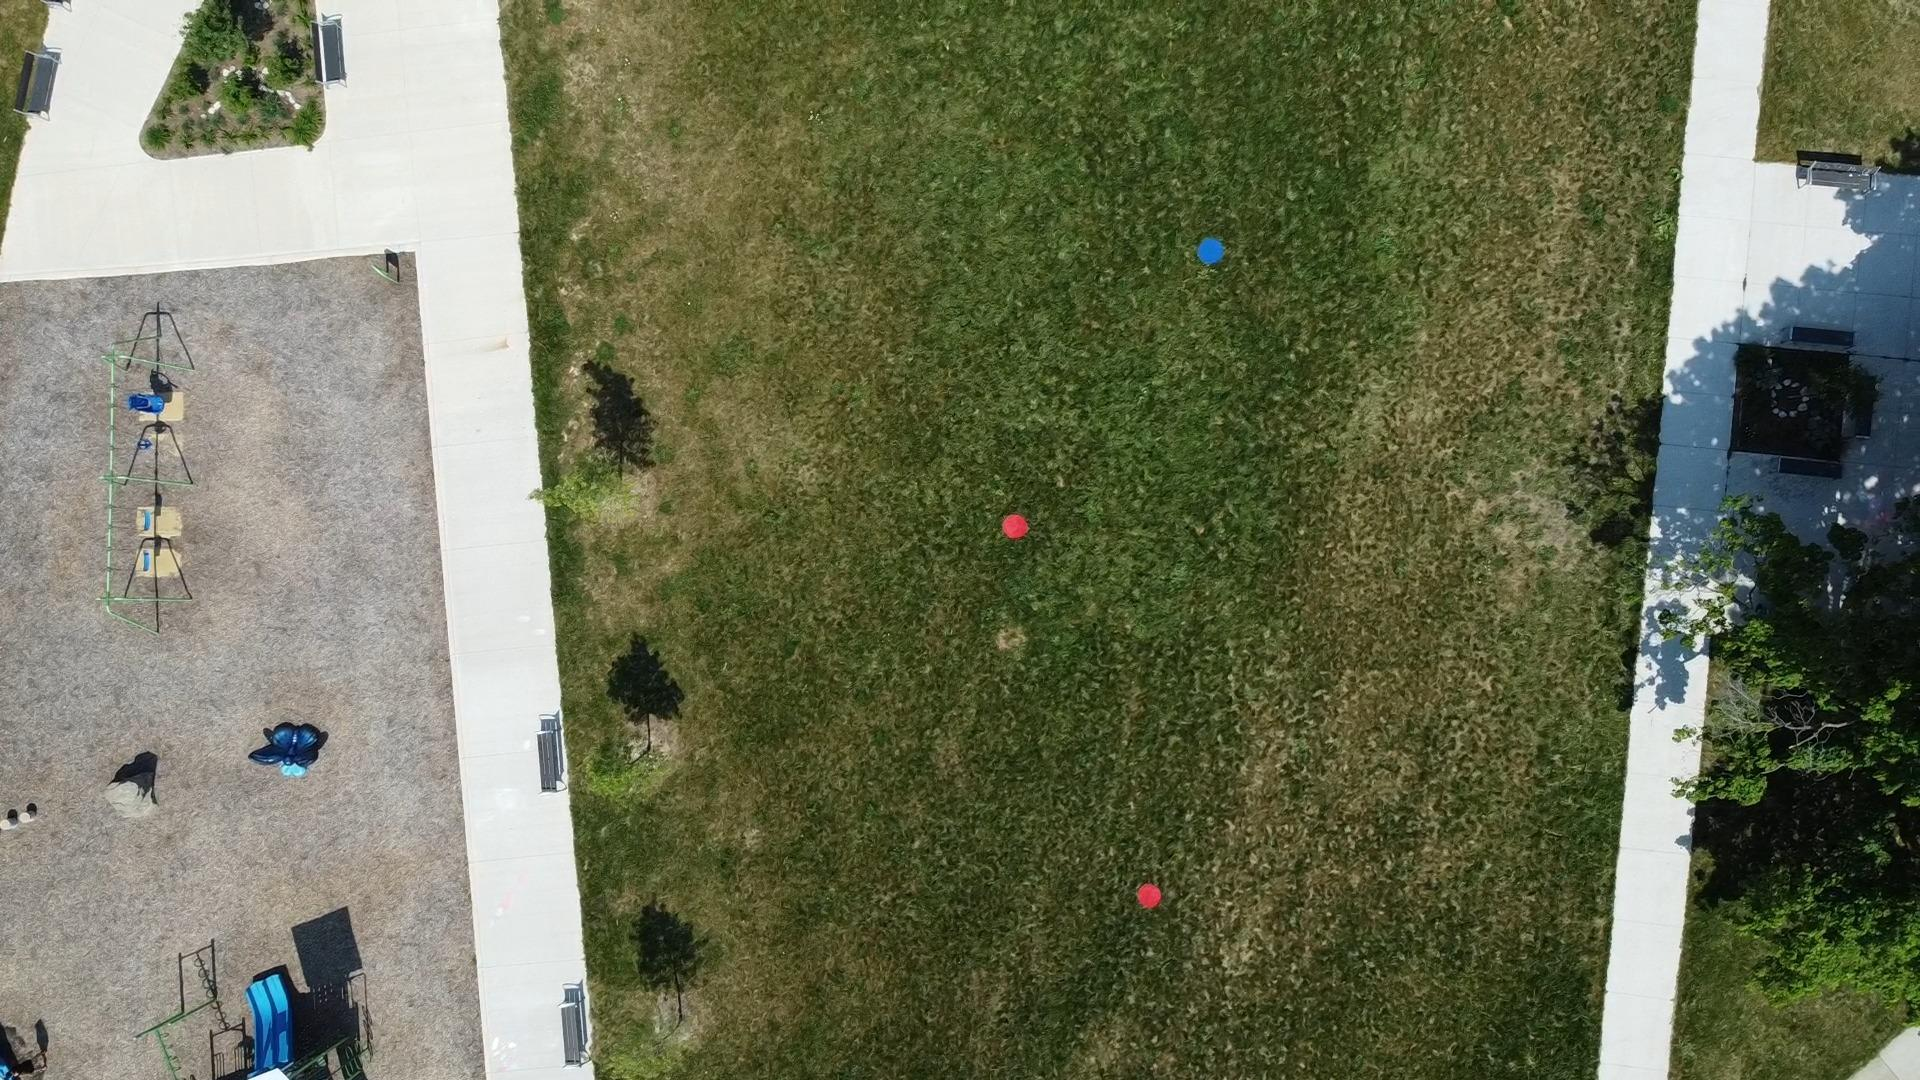Blue: (1197, 237, 1225, 265)
Red: (1001, 513, 1030, 541), (1137, 882, 1163, 909)
